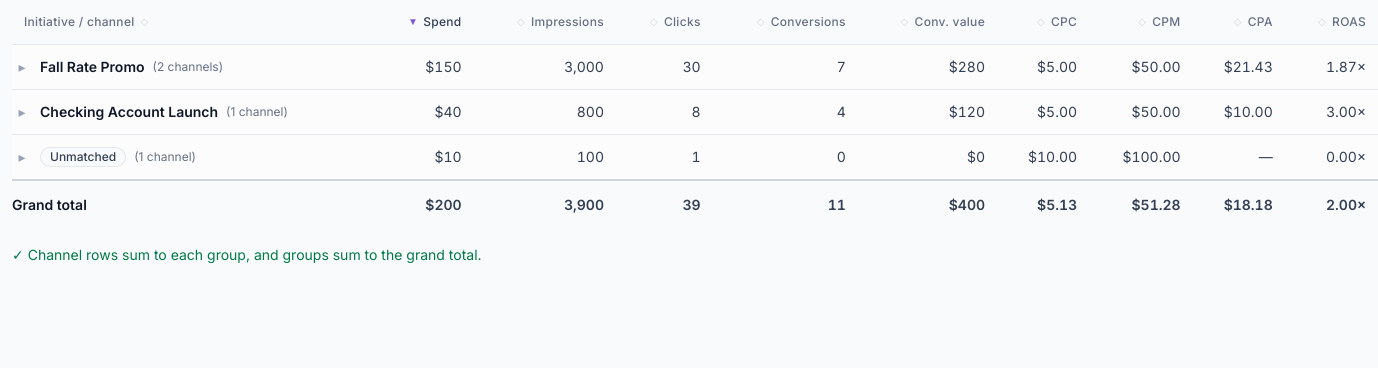
Scenario: TotalsTable › renders initiative rows, expands channels, and reconciles
Expected: the text "Fall Rate Promo" is shown, [40,57,144,77]
Expected: the text "Checking Account Launch" is shown, [40,102,218,122]
Click the button "▸ Fall Rate Promo (2 channels)". click: click(118, 67)
box: [12,57,223,77]
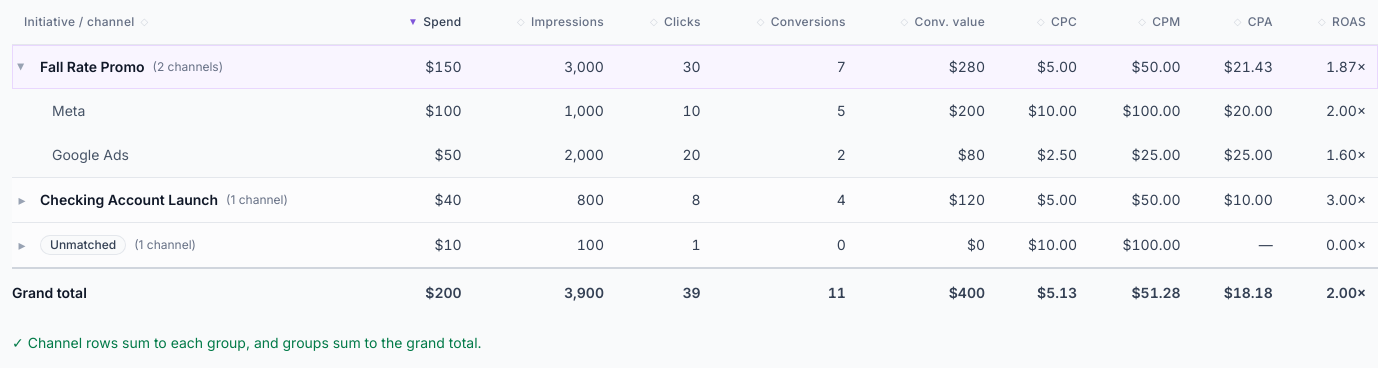
Now the text "Meta" is shown, box [12,89,375,133]
Now the text "Google Ads" is shown, box [12,133,375,178]
